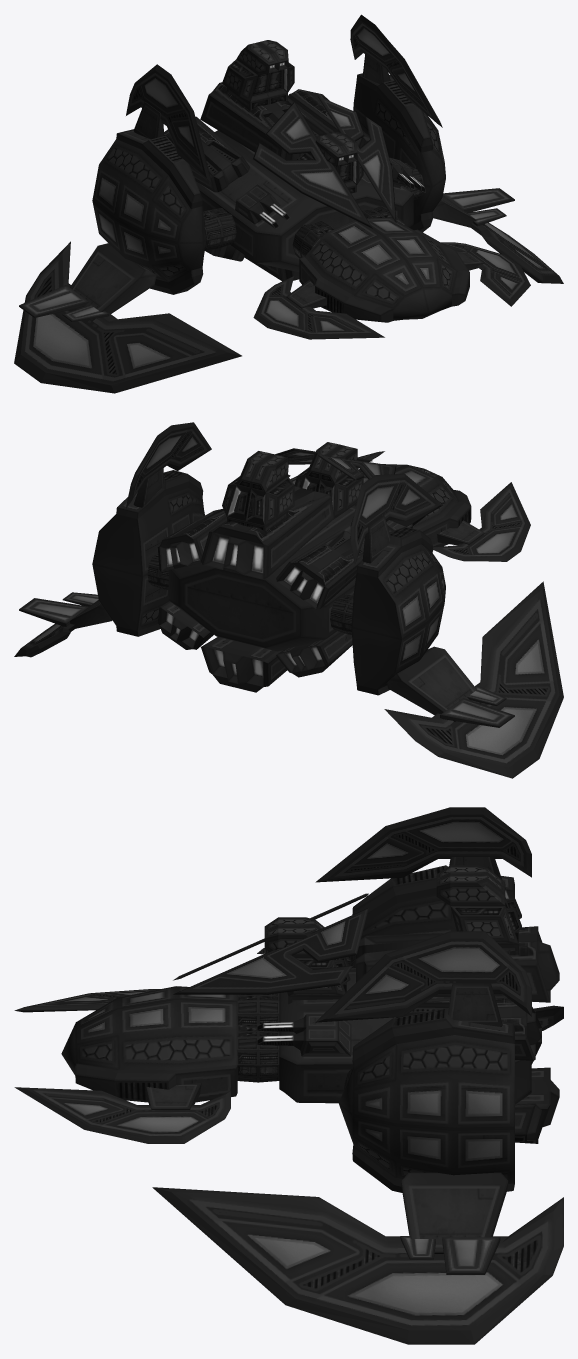
File: astraTalonFleet_BattleshipB.FBX
The picture shows the model from 3 angles, top to bottom: view 1: azimuth 30°, elevation 25°; view 2: azimuth 150°, elevation 25°; view 3: azimuth 270°, elevation 25°; orthographic projection. The views are drawn at different scales.
Parts seen in each view (by area): view 1: BattleshipBModel; view 2: BattleshipBModel; view 3: BattleshipBModel.
Part boxes in pixels (x1,y1,x2,y2): BattleshipBModel: [14, 14, 563, 393]; BattleshipBModel: [14, 422, 563, 778]; BattleshipBModel: [14, 807, 563, 1344].
Bounding box in the file's own units: 1752 × 1345 × 874.
